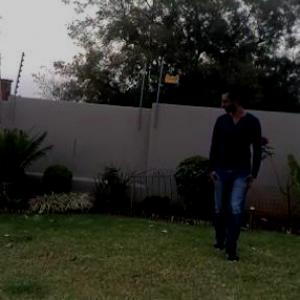follow: (206, 81, 259, 256)
